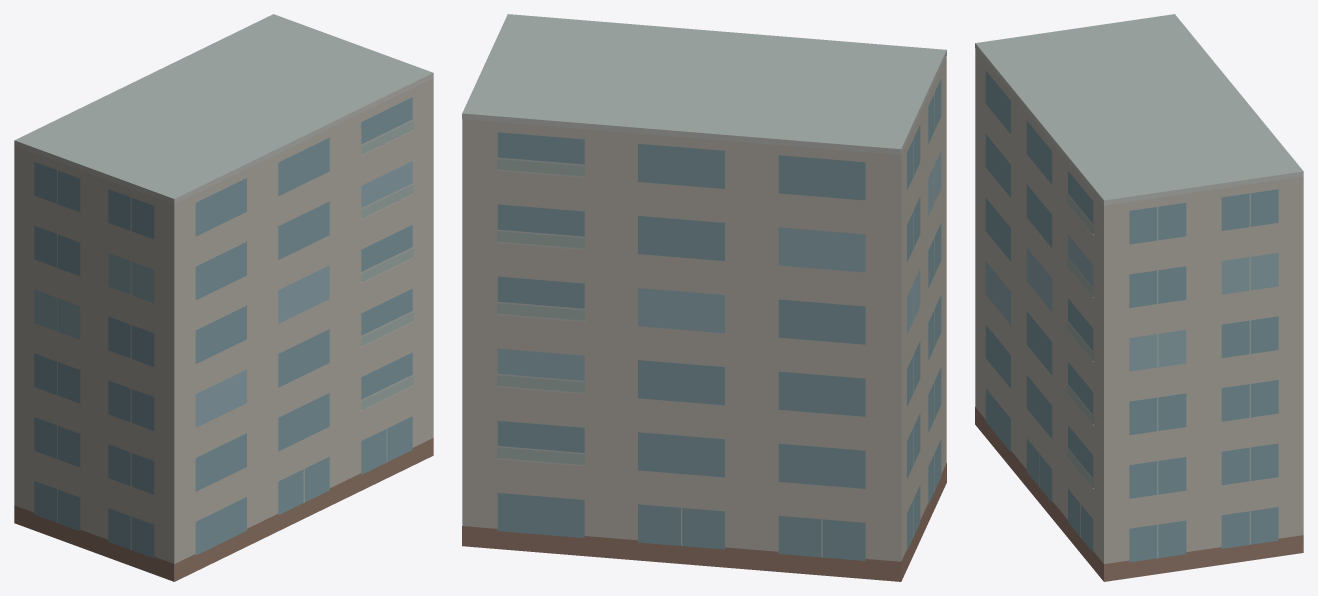
The model's file is survey-upis-32796330.glb.
The picture shows the model from 3 angles, left to right: view 1: azimuth 30°, elevation 25°; view 2: azimuth 150°, elevation 25°; view 3: azimuth 270°, elevation 25°; orthographic projection. The views are drawn at different scales.
Visible parts, largest first — view 1: survey-upis-32796330.tmp; view 2: survey-upis-32796330.tmp; view 3: survey-upis-32796330.tmp.
Boxes of the visible parts, x1,y1,x2,y2 form: survey-upis-32796330.tmp: (14, 14, 433, 581); survey-upis-32796330.tmp: (462, 14, 946, 581); survey-upis-32796330.tmp: (975, 14, 1303, 581).
Size of the model in its own units: 19.2 by 18.3 by 14.3.
